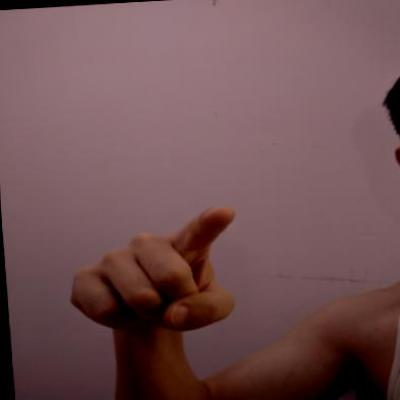hand: (58, 203, 246, 342)
